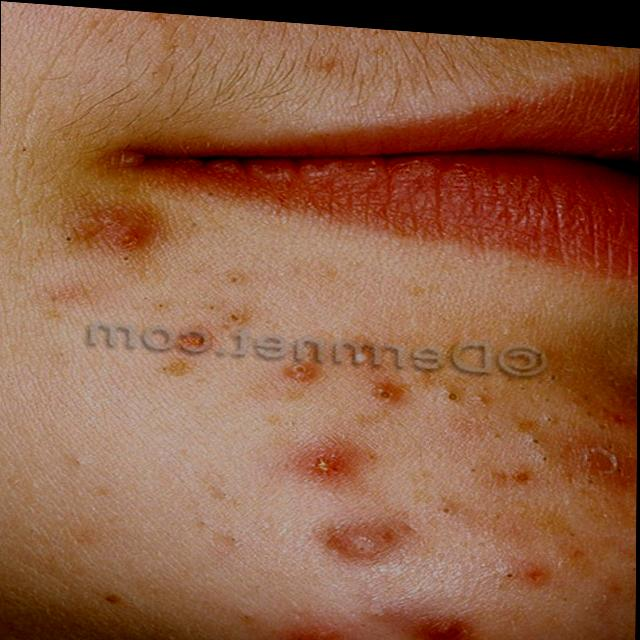blackheads: (322, 508, 396, 559), (413, 606, 484, 640), (273, 609, 349, 640), (290, 435, 339, 475)
